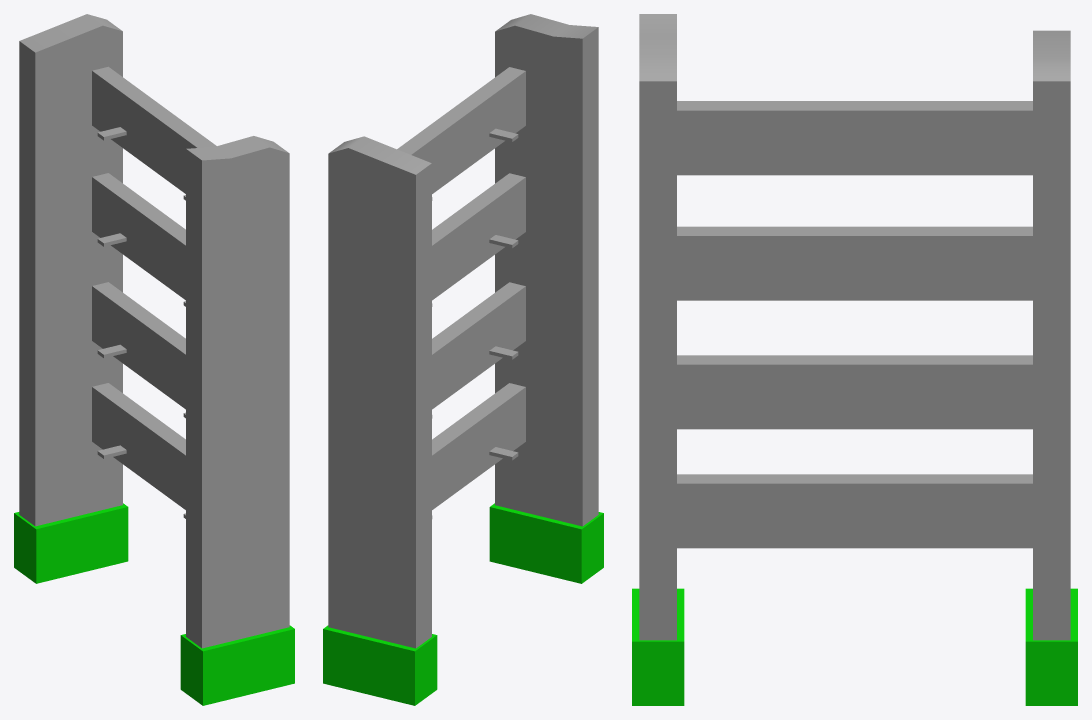
File: Weapon_Rack.fbx
The picture shows the model from 3 angles, left to right: view 1: azimuth 30°, elevation 25°; view 2: azimuth 150°, elevation 25°; view 3: azimuth 270°, elevation 25°; orthographic projection. The views are drawn at different scales.
Visible parts, largest first — view 1: Weapon_Rack; view 2: Weapon_Rack; view 3: Weapon_Rack.
Boxes of the visible parts, <box> form: Weapon_Rack: <box>14,14,294,705</box>; Weapon_Rack: <box>323,14,603,705</box>; Weapon_Rack: <box>632,14,1077,705</box>.
Size of the model in its own units: 111 by 627 by 396.
